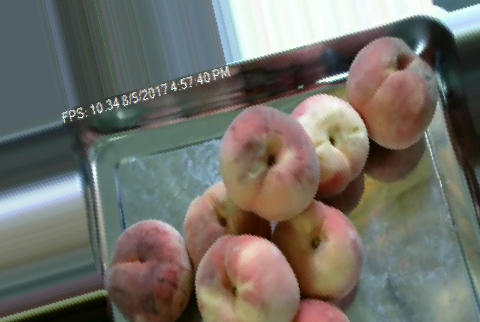Peach: (343, 35, 441, 148), (221, 104, 312, 218), (272, 199, 361, 305), (195, 234, 300, 322), (106, 218, 191, 322), (286, 95, 372, 194)
